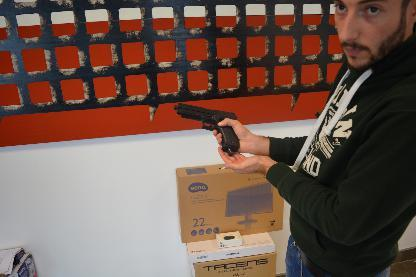pistol: (173, 102, 239, 155)
